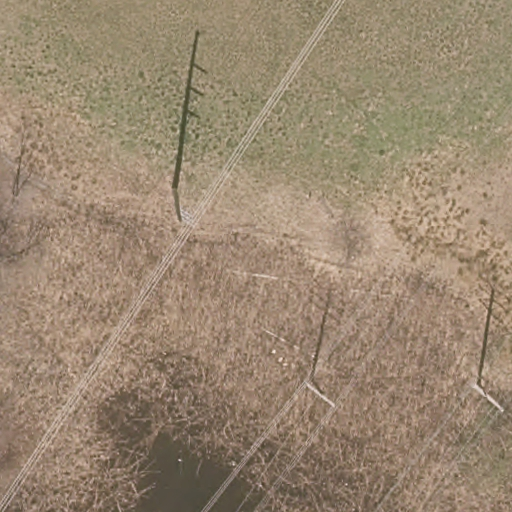DT: (470, 380, 507, 416), (303, 379, 337, 409)
